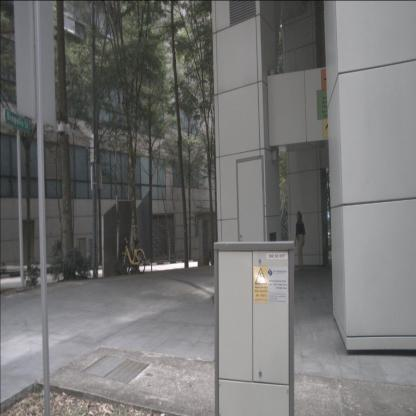human-pedestrian-adult: (294, 211, 306, 271)
vehicle-bicycle: (116, 233, 146, 276)
